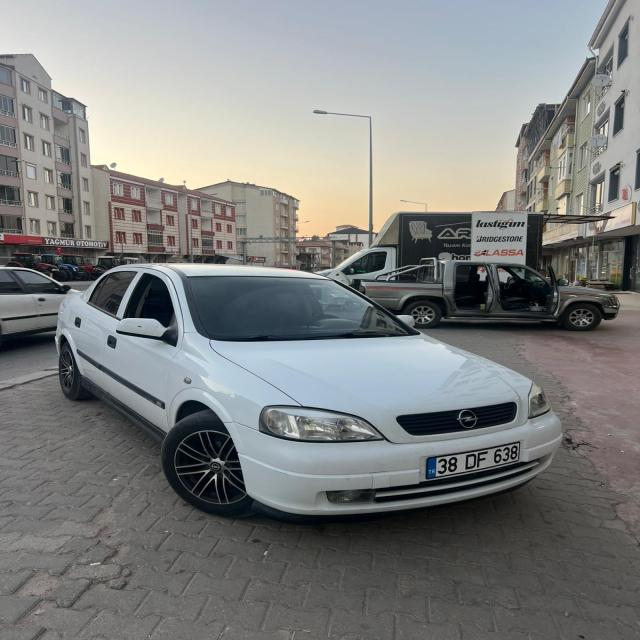opel: (451, 408, 486, 431)
